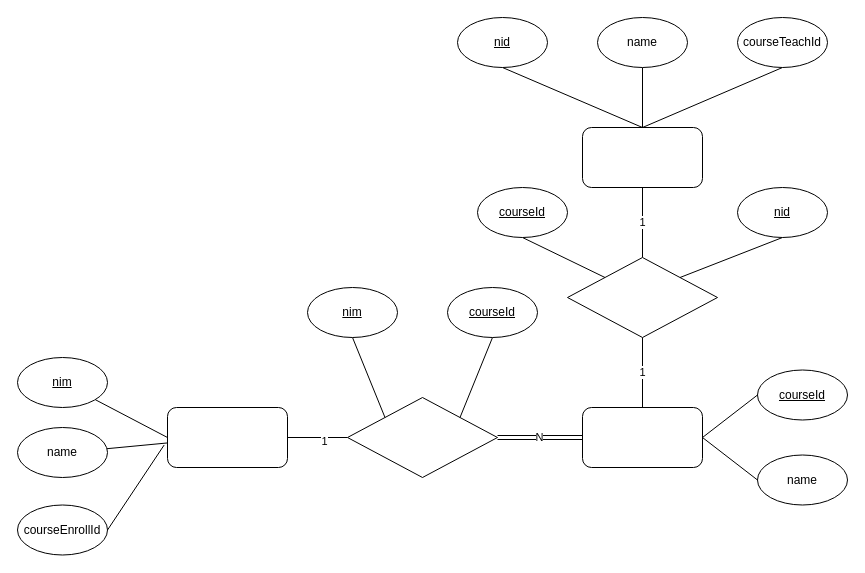
This 865x573 diagram has some shape labels left out. The centre of each missing label's shape, as x and y in pixels:
"Course" goes at (642,437).
"Dosen" goes at (642,157).
"Mahasiswa" goes at (227,437).
"Mendaftar" goes at (422,437).
"Mengajar" goes at (642,297).
